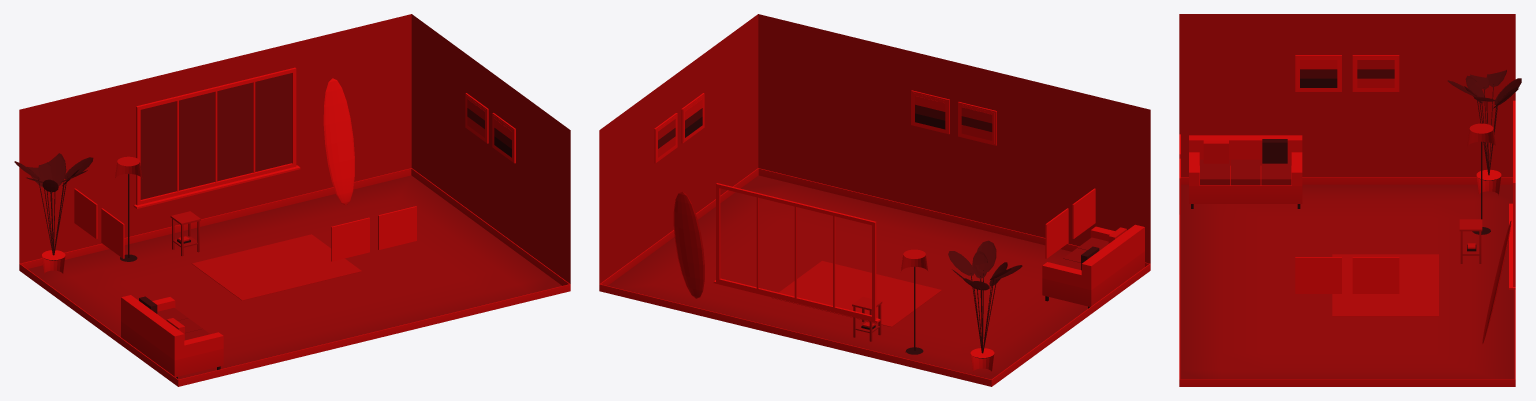
The model's file is room_beach.glb.
The picture shows the model from 3 angles, left to right: view 1: azimuth 30°, elevation 25°; view 2: azimuth 150°, elevation 25°; view 3: azimuth 270°, elevation 25°; orthographic projection. The views are drawn at different scales.
Parts seen in each view (by area): view 1: Shell, CenterWindow, TankRug, CenterSofa, RightSurf, CenterArtF, CenterPlantCorner, CenterArtLW, CenterArtRW, LeftTable, LeftLamp; view 2: Shell, CenterSofa, TankRug, CenterWindow, CenterArtF, CenterPlantCorner, RightSurf, CenterArtRW, CenterArtLW, LeftLamp, LeftTable; view 3: Shell, CenterSofa, TankRug, CenterArtLW, CenterArtRW, CenterPlantCorner, CenterWindow, LeftLamp, LeftTable, RightSurf.
Boxes of the visible parts, bbox=[...] form: Shell: bbox=[19, 14, 570, 386]; CenterWindow: bbox=[133, 67, 300, 208]; TankRug: bbox=[192, 234, 361, 300]; CenterSofa: bbox=[121, 295, 223, 378]; RightSurf: bbox=[323, 78, 354, 205]; CenterArtF: bbox=[331, 206, 416, 261]; CenterPlantCorner: bbox=[14, 153, 93, 273]; CenterArtLW: bbox=[74, 188, 124, 258]; CenterArtRW: bbox=[465, 93, 515, 163]; LeftTable: bbox=[170, 211, 200, 256]; LeftLamp: bbox=[115, 156, 142, 261]; Shell: bbox=[599, 14, 1150, 386]; CenterSofa: bbox=[1042, 224, 1144, 308]; TankRug: bbox=[772, 261, 941, 326]; CenterWindow: bbox=[713, 183, 880, 322]; CenterArtF: bbox=[911, 90, 996, 145]; CenterPlantCorner: bbox=[948, 240, 1022, 371]; RightSurf: bbox=[673, 191, 704, 298]; CenterArtRW: bbox=[654, 93, 704, 163]; CenterArtLW: bbox=[1045, 188, 1095, 258]; LeftLamp: bbox=[901, 249, 928, 354]; LeftTable: bbox=[852, 296, 882, 341]; Shell: bbox=[1179, 14, 1515, 386]; CenterSofa: bbox=[1189, 135, 1302, 208]; TankRug: bbox=[1332, 254, 1438, 316]; CenterArtLW: bbox=[1295, 55, 1399, 91]; CenterArtRW: bbox=[1295, 257, 1399, 293]; CenterPlantCorner: bbox=[1447, 70, 1521, 195]; CenterWindow: bbox=[1509, 100, 1515, 289]; LeftLamp: bbox=[1467, 123, 1495, 234]; LeftTable: bbox=[1459, 219, 1482, 263]; RightSurf: bbox=[1482, 221, 1511, 343].
Size of the model in its own units: 741 by 282 by 514.
